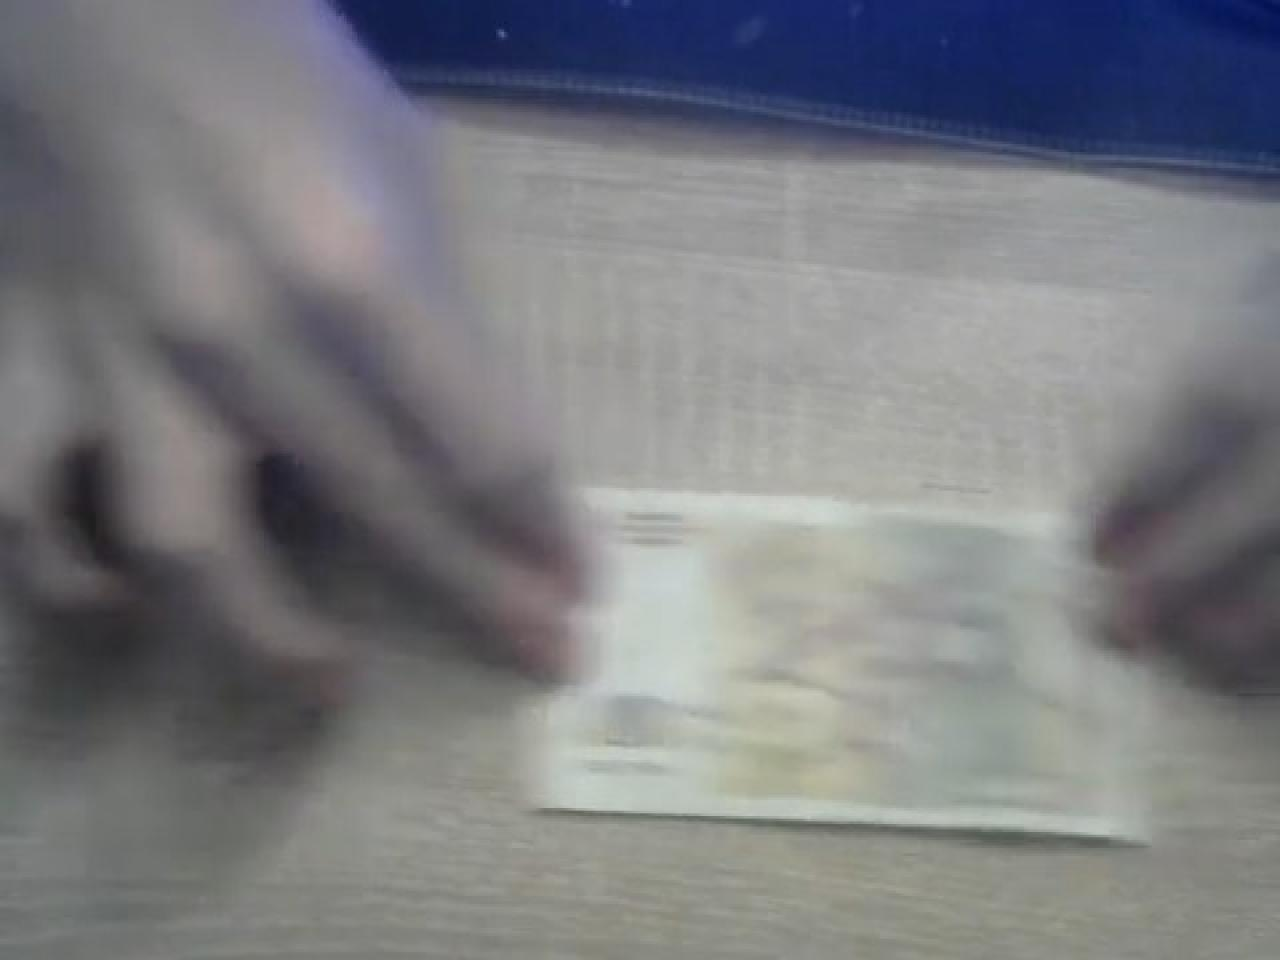10leva: (515, 485, 1157, 851)
